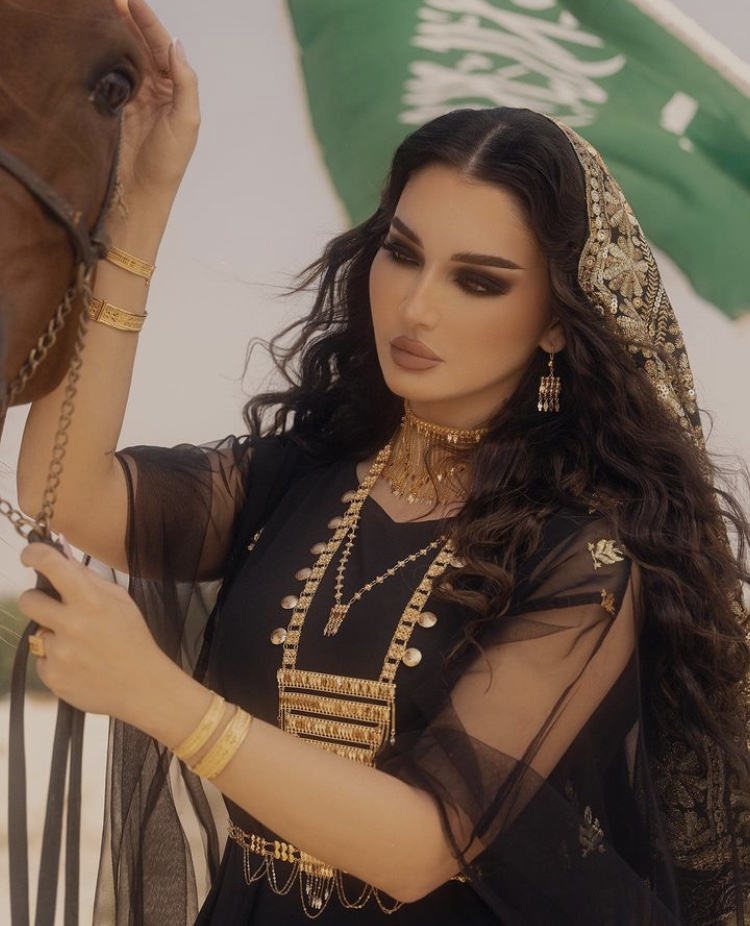Saudi_Founding_Day: (16, 2, 750, 926)
